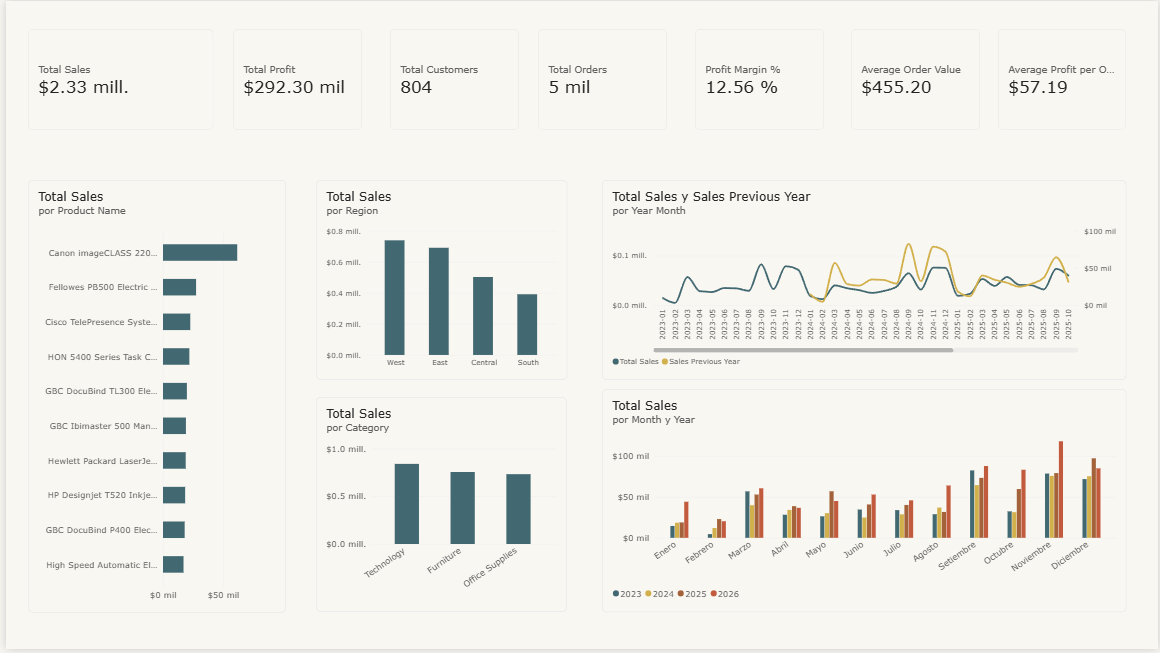

This screenshot's page, from the dashboard's own definition file:
{"tool":"powerbi","page":{"name":" Executive Overview","canvas":[1920,1080],"ordinal":0},"visuals":[{"type":"cardVisual","fields":{"Data":["Orders.Total Sales"]},"box":[36,46,309.2,169],"z":0},{"type":"cardVisual","fields":{"Data":["Orders.Total Profit"]},"box":[378,46,215.7,169],"z":1000},{"type":"cardVisual","fields":{"Data":["Orders.Total Customers"]},"box":[640,46,215.7,169],"z":2000},{"type":"cardVisual","fields":{"Data":["Orders.Profit Margin %"]},"box":[1148,46,215.7,169],"z":3000},{"type":"cardVisual","fields":{"Data":["Orders.Total Orders"]},"box":[886,46,215.7,169],"z":5000},{"type":"cardVisual","fields":{"Data":["Orders.Average Order Value"]},"box":[1408,46,215.7,169],"z":6000},{"type":"cardVisual","fields":{"Data":["Orders.Average Profit per Order"]},"box":[1654,46,213.9,169],"z":7000},{"type":"lineChart","fields":{"Category":["Calendar.Year Month"],"Y":["Orders.Total Sales"],"Y2":["Orders.Sales Previous Year"]},"box":[994.2,298.4,873.7,332.6],"z":8000},{"type":"clusteredColumnChart","fields":{"Category":["Calendar.Month"],"Series":["Calendar.Year"],"Y":["Orders.Total Sales"]},"box":[994,646,874,372],"z":9000},{"type":"clusteredColumnChart","fields":{"Category":["Orders.Category"],"Y":["Orders.Total Sales"]},"box":[516,660,418,358],"z":10000},{"type":"clusteredColumnChart","fields":{"Category":["Orders.Region"],"Y":["Orders.Total Sales"]},"box":[516,298.4,418.9,332.6],"z":11000},{"type":"clusteredBarChart","fields":{"Category":["Orders.Product Name"],"Y":["Orders.Total Sales"]},"box":[36,298.4,429.7,720.9],"z":12000}]}

Visuals, with their boxes in screenshot pixels (x1, y1, x2, y2), scaled from the page's 1920x1080 canvas onto the 1160x653 screenshot:
cardVisual - Orders.Total Sales: left=22, top=28, right=209, bottom=130
cardVisual - Orders.Total Profit: left=228, top=28, right=359, bottom=130
cardVisual - Orders.Total Customers: left=387, top=28, right=517, bottom=130
cardVisual - Orders.Profit Margin %: left=694, top=28, right=824, bottom=130
cardVisual - Orders.Total Orders: left=535, top=28, right=666, bottom=130
cardVisual - Orders.Average Order Value: left=851, top=28, right=981, bottom=130
cardVisual - Orders.Average Profit per Order: left=999, top=28, right=1129, bottom=130
lineChart - Calendar.Year Month x Orders.Total Sales: left=601, top=180, right=1129, bottom=382
clusteredColumnChart - Calendar.Month x Calendar.Year: left=601, top=391, right=1129, bottom=616
clusteredColumnChart - Orders.Category x Orders.Total Sales: left=312, top=399, right=564, bottom=616
clusteredColumnChart - Orders.Region x Orders.Total Sales: left=312, top=180, right=565, bottom=382
clusteredBarChart - Orders.Product Name x Orders.Total Sales: left=22, top=180, right=281, bottom=616
